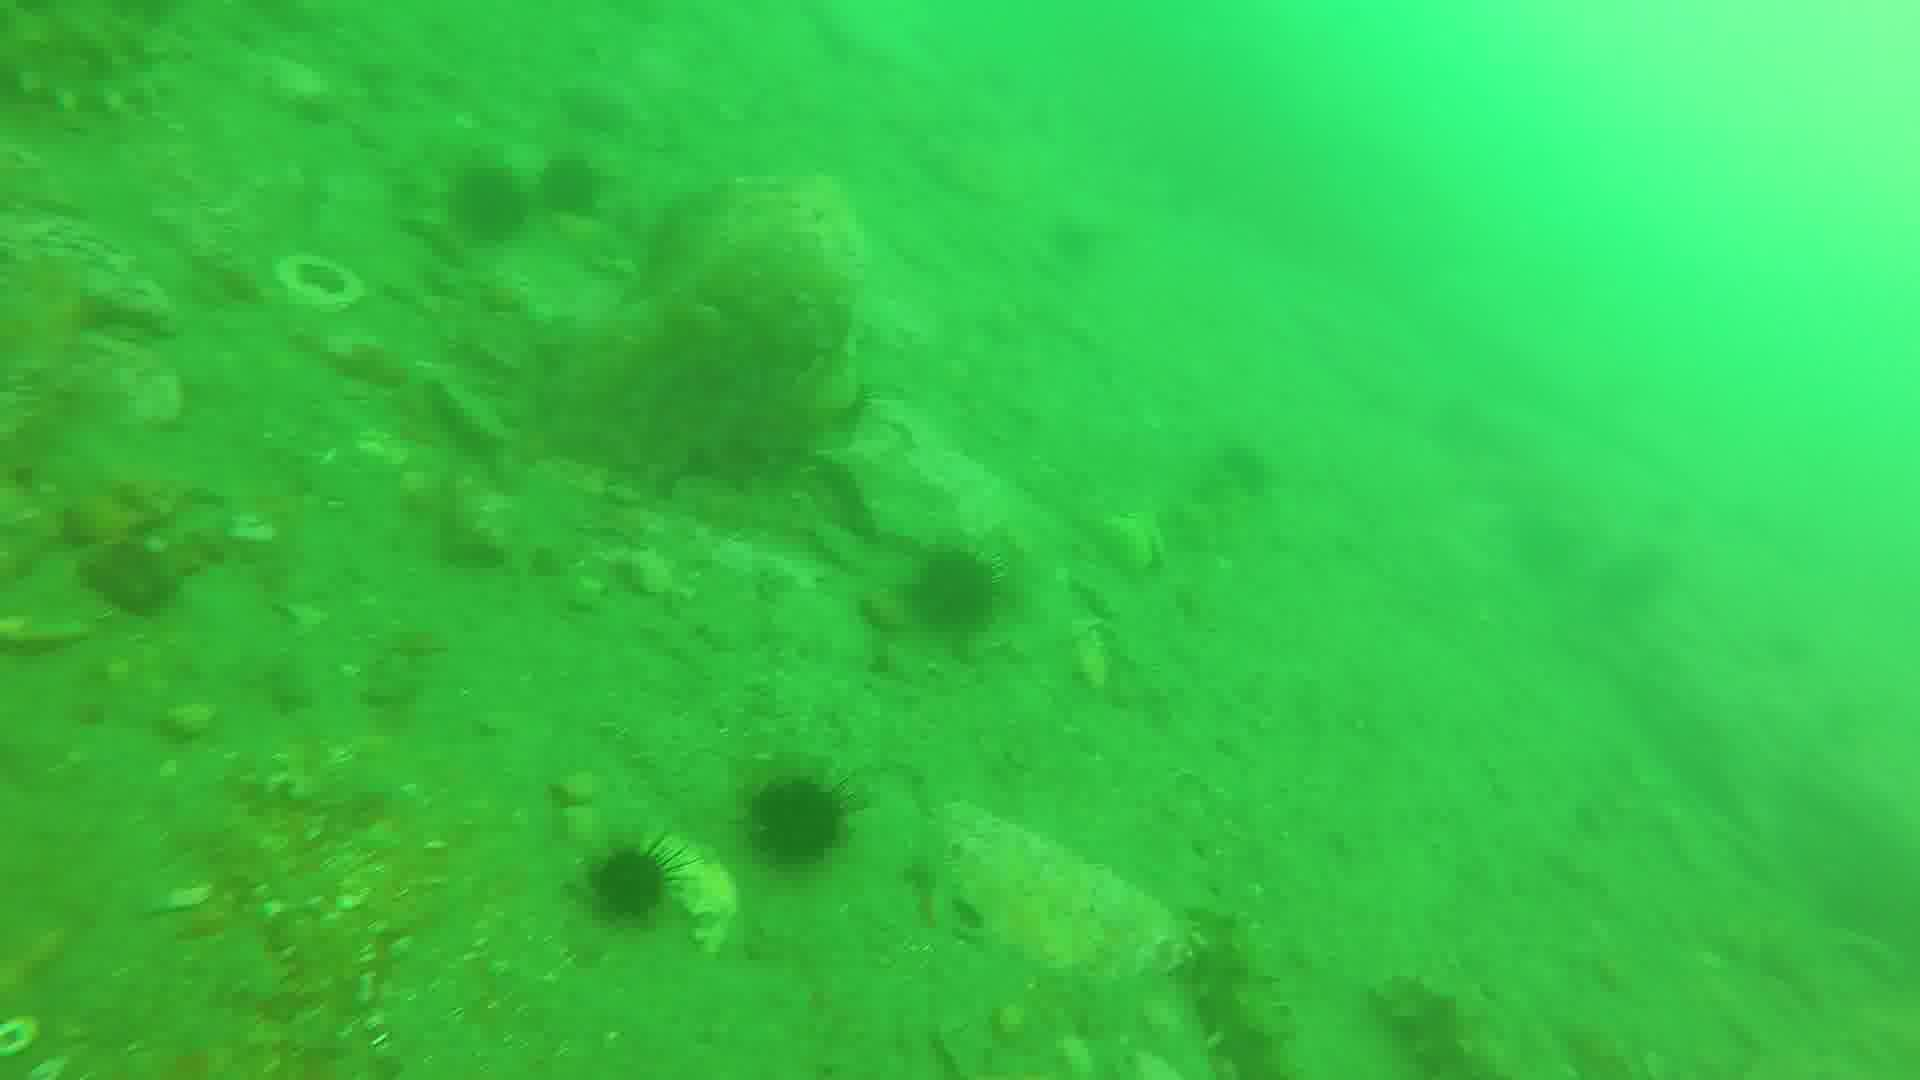echinus: (753, 775, 849, 865), (923, 547, 1007, 636), (589, 837, 669, 923), (454, 169, 529, 243), (539, 150, 604, 219)
holothurian: (1188, 909, 1291, 1080), (1385, 963, 1511, 1080)
